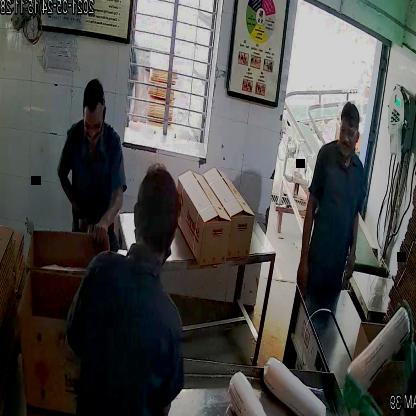goggles: (336, 120, 363, 142)
